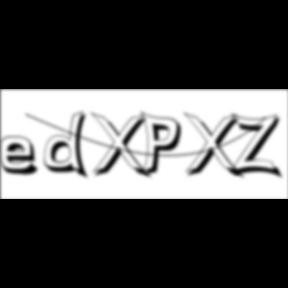P: (140, 110, 188, 180)
X: (90, 112, 154, 182), (183, 112, 247, 182)
Z: (232, 112, 286, 181)
d: (44, 110, 94, 182)
e: (0, 135, 46, 178)
